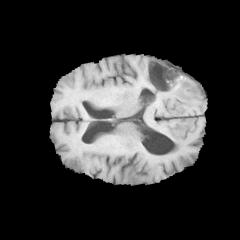glioma: (141, 54, 204, 102)
